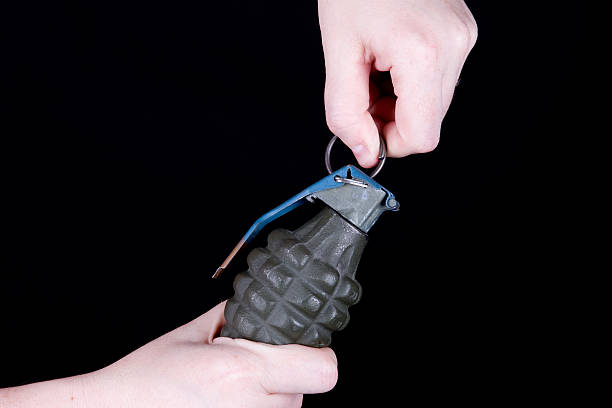e1: (209, 132, 401, 348)
